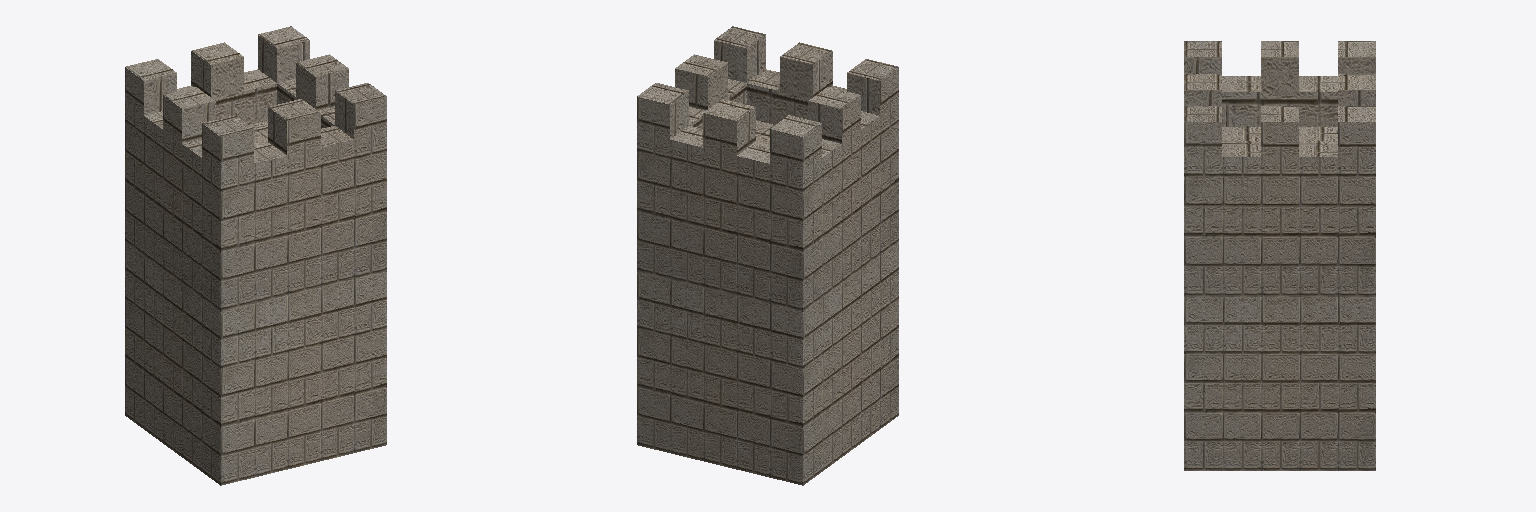
The picture shows the model from 3 angles: view 1: azimuth 30°, elevation 25°; view 2: azimuth 150°, elevation 25°; view 3: azimuth 270°, elevation 25°; orthographic projection.
Parts seen in each view (by area): view 1: Wall; view 2: Wall; view 3: Wall.
Boxes of the visible parts, <box> form: Wall: <box>125,26,386,485</box>; Wall: <box>637,26,898,485</box>; Wall: <box>1184,41,1375,470</box>.
Size of the model in its own units: 1 by 2 by 1.
Materials: 1 (1 with a texture image).